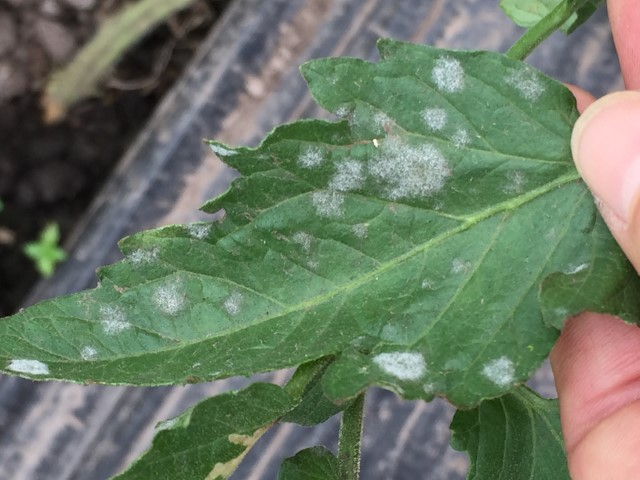oidio: (368, 137, 450, 202), (372, 351, 426, 385), (502, 62, 545, 101), (430, 53, 466, 94), (329, 156, 367, 194), (480, 355, 517, 390), (153, 281, 188, 315), (99, 303, 133, 338), (313, 191, 345, 219), (6, 358, 50, 375), (503, 168, 529, 196), (125, 247, 160, 267), (421, 106, 447, 131), (298, 144, 321, 170), (290, 231, 313, 254), (371, 110, 396, 131), (188, 220, 212, 240), (224, 291, 243, 316), (209, 141, 239, 156), (451, 127, 470, 150), (561, 262, 589, 276), (80, 345, 98, 363), (448, 257, 465, 275), (351, 222, 370, 237), (553, 304, 570, 319), (337, 104, 351, 118), (420, 278, 433, 290), (306, 259, 320, 270), (358, 364, 370, 375), (423, 383, 433, 395)
